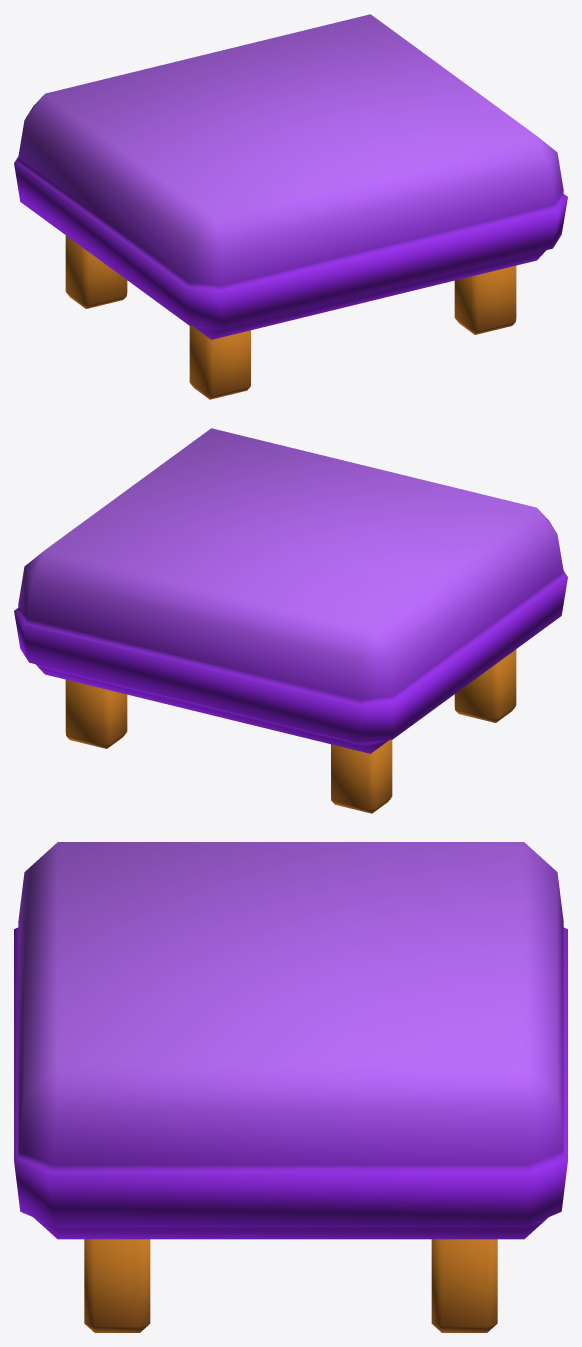
Rendered from Footrest.fbx.
3 renders of one model, top to bottom at view 1: azimuth 30°, elevation 25°; view 2: azimuth 150°, elevation 25°; view 3: azimuth 270°, elevation 25°, orthographic. The views are drawn at different scales.
Parts seen in each view (by area): view 1: Footrest; view 2: Footrest; view 3: Footrest.
Boxes of the visible parts, <box> form: Footrest: <box>14,14,567,399</box>; Footrest: <box>14,428,567,813</box>; Footrest: <box>14,842,567,1332</box>.
Bounding box in the file's own units: 3.73 × 4.16 × 2.05.
